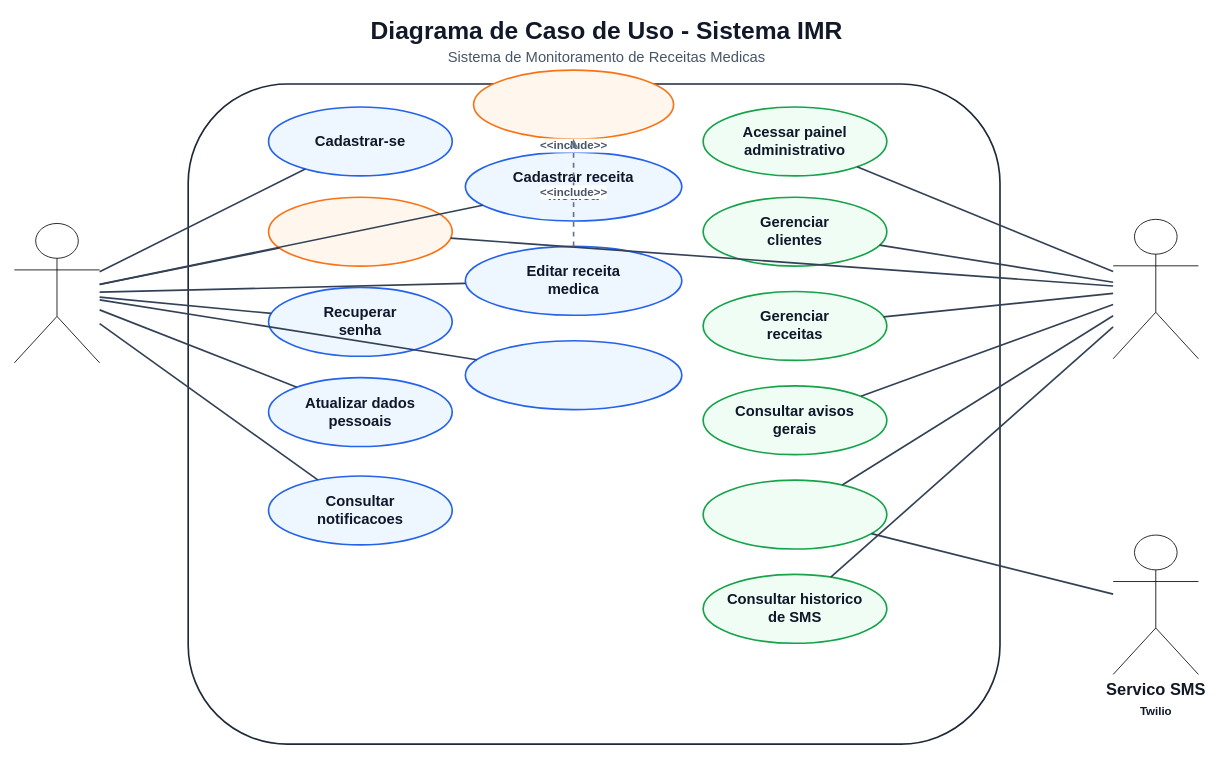
This 1226x759 diagram has some shape labels left out. Here are the shapes that lost their labels. From the top down, the centre of each, then its label:
(x=573, y=104): Anexar arquivo da receita
(x=360, y=231): Realizar login
(x=57, y=293): Cliente Paciente
(x=1155, y=289): Administrador
(x=573, y=374): Consultar minhas receitas
(x=794, y=514): Enviar SMS ao cliente
